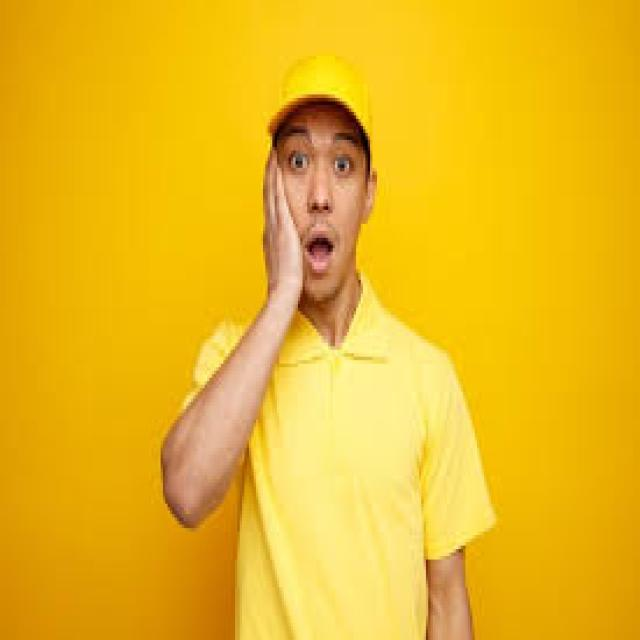cap: (265, 53, 377, 304)
